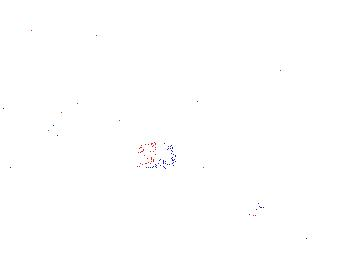flame jellyfish: (137, 138, 225, 193), (245, 153, 301, 223), (30, 73, 80, 140)
